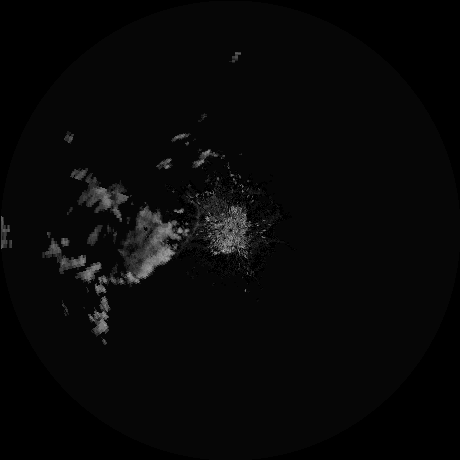frontgust: (186, 200, 203, 243)
